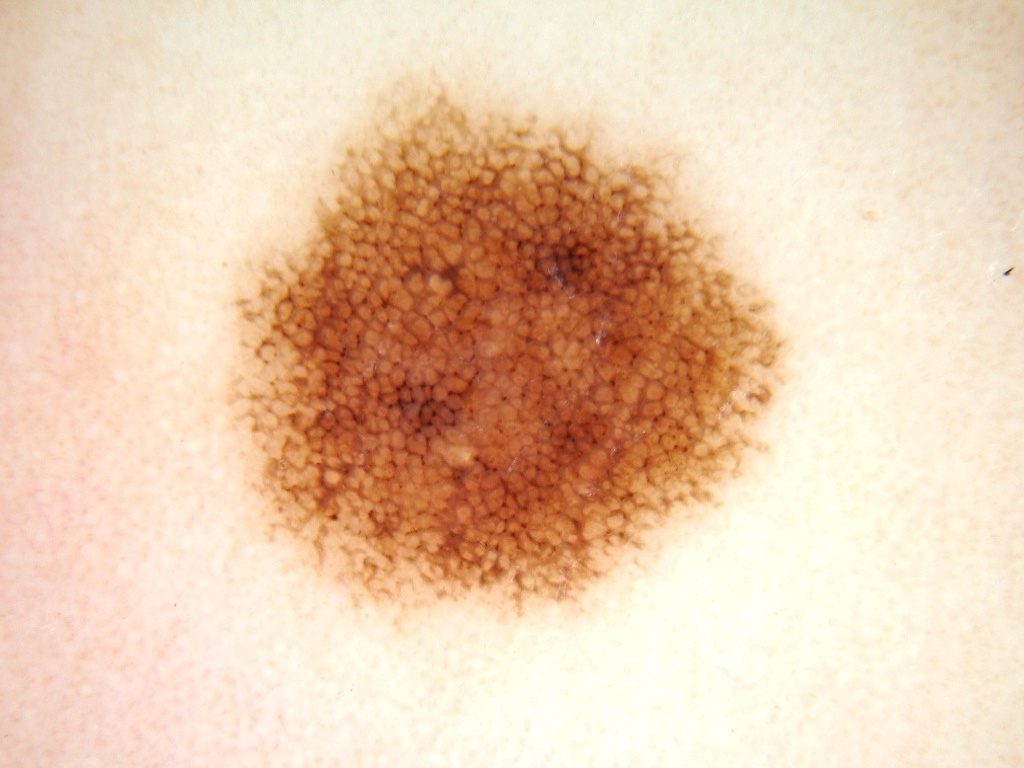Detected Lesion: (218, 78, 788, 622)
